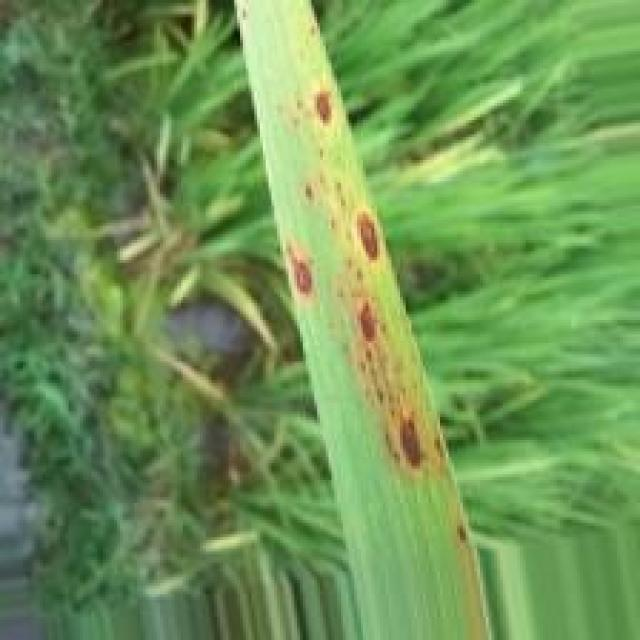Brown_Spot: (286, 248, 316, 311), (398, 420, 426, 475), (353, 209, 380, 262), (357, 311, 382, 341), (312, 96, 334, 128)
